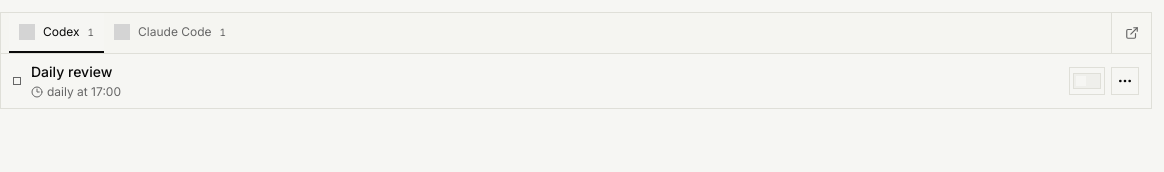
Test case: ProviderAutomationsPanel › keeps the launch error compact when every recovery path fails
This screenshot has width=1164, height=172.
Expected: the text "Daily review" is shown, [31,63,112,80]
What coordinates should you click on to do the following:
click the button named "open Codex schedules"
I would click on:
 (1131, 33)
Its box is [1111,13,1151,53].
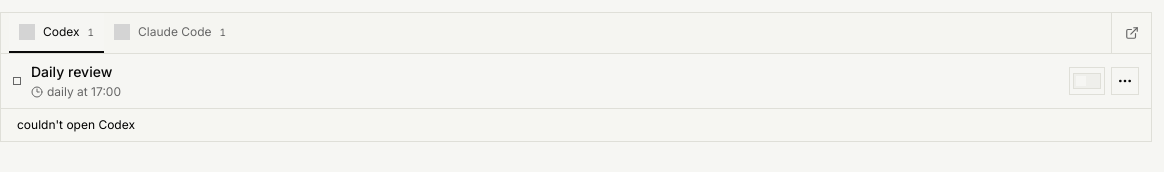
Now the message reads "couldn't open Codex", box [17,117,135,132]
